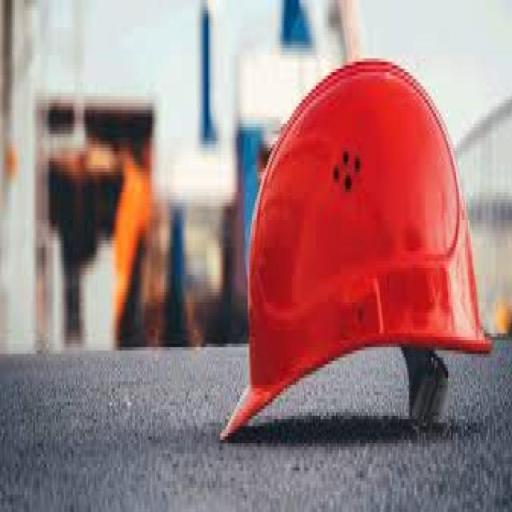helmet: (216, 52, 509, 433)
